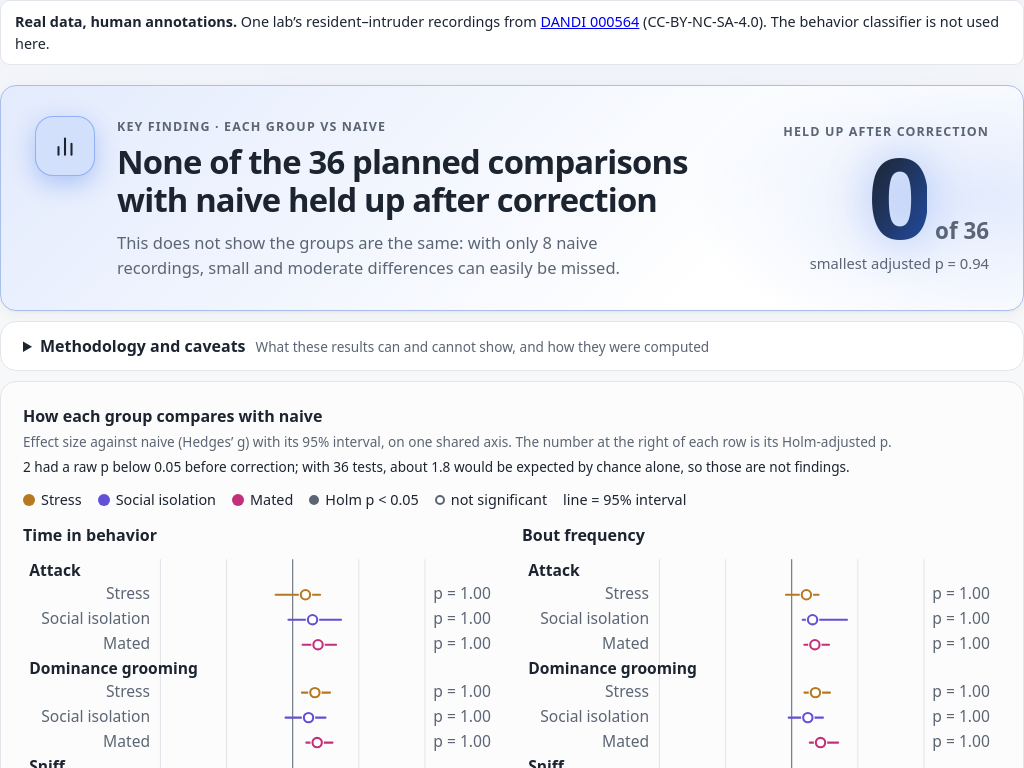
GroupComparisonView caveats (must ship in the UI) › keeps the caveats collapsed by default, one click away, right under the headline result
Click the text "Methodology and caveats" at point(143, 346), box [40, 335, 246, 357]
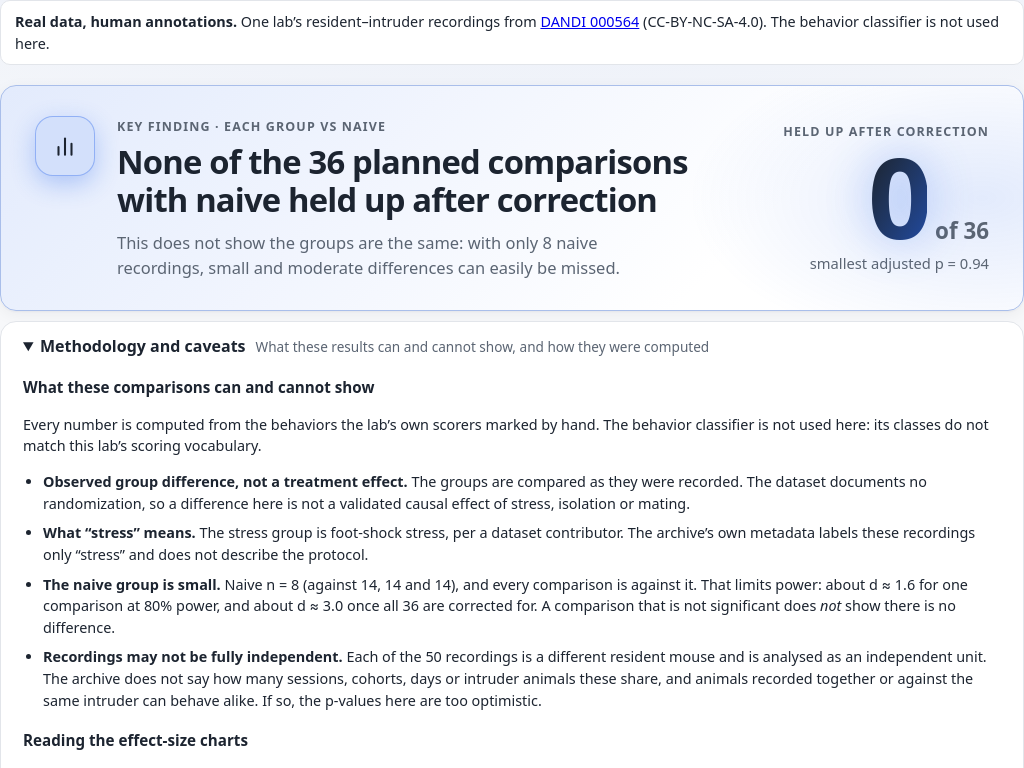
expect the element with test id "caveats" is shown: met, box [23, 376, 1001, 711]
